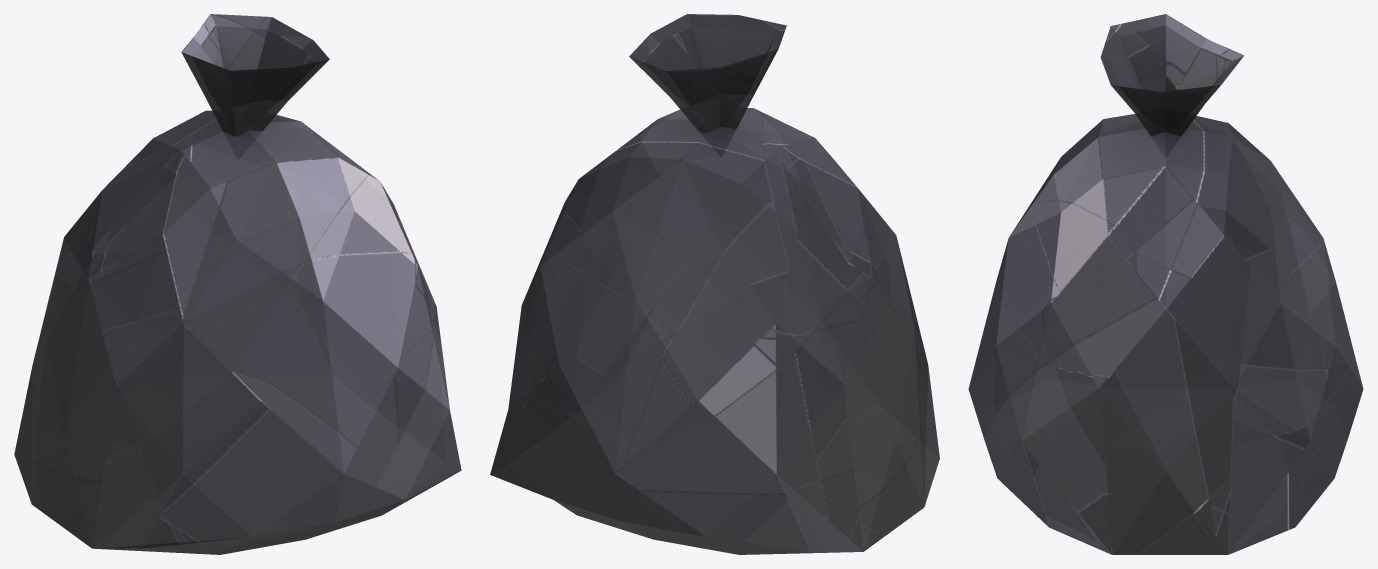
The model's file is MD_gomibukuro_260126.fbx.
The picture shows the model from 3 angles, left to right: view 1: azimuth 30°, elevation 25°; view 2: azimuth 150°, elevation 25°; view 3: azimuth 270°, elevation 25°; orthographic projection. The views are drawn at different scales.
Visible parts, largest first — view 1: gomibukuro_kansei; view 2: gomibukuro_kansei; view 3: gomibukuro_kansei.
Part boxes in pixels (box(x1,y1,x2,y2)): gomibukuro_kansei: box(14, 14, 461, 554); gomibukuro_kansei: box(490, 14, 939, 554); gomibukuro_kansei: box(968, 14, 1363, 554).
Size of the model in its own units: 134 by 165 by 135.
